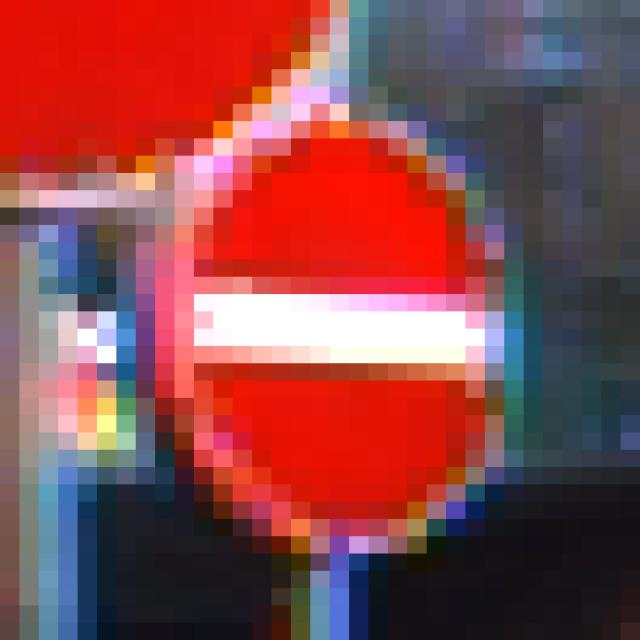No Entry: (117, 88, 544, 555)
